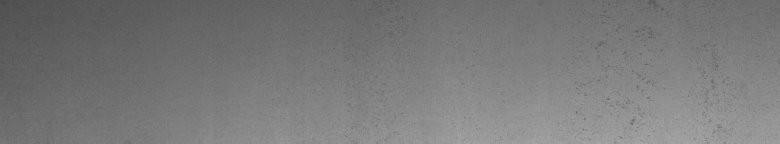ib: (596, 4, 728, 132)
